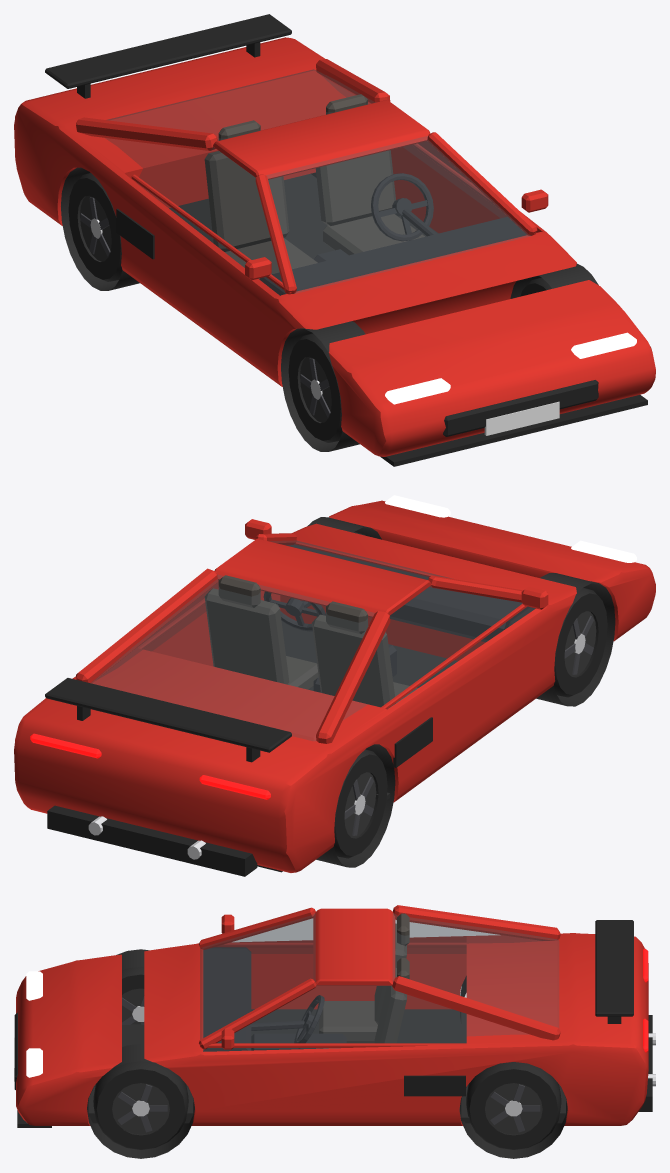
Rendered from sports_car.glb.
3 renders of one model, top to bottom at view 1: azimuth 30°, elevation 25°; view 2: azimuth 150°, elevation 25°; view 3: azimuth 270°, elevation 25°, orthographic. The views are drawn at different scales.
Parts seen in each view (by area): view 1: sports_car_body, glass, wheel_FR, wheel_RR, steering_wheel; view 2: sports_car_body, glass, wheel_FR, wheel_RR, steering_wheel; view 3: sports_car_body, glass, wheel_FL, wheel_RL, wheel_FR, steering_wheel.
Boxes of the visible parts, left/top/right/bottom form: sports_car_body: left=14, top=14, right=655, bottom=466; glass: left=105, top=69, right=530, bottom=293; wheel_FR: left=288, top=333, right=342, bottom=442; wheel_RR: left=68, top=173, right=122, bottom=281; steering_wheel: left=371, top=173, right=433, bottom=241; sports_car_body: left=14, top=495, right=655, bottom=876; glass: left=91, top=540, right=521, bottom=740; wheel_FR: left=554, top=587, right=607, bottom=697; wheel_RR: left=333, top=749, right=387, bottom=858; steering_wheel: left=263, top=591, right=325, bottom=631; sports_car_body: left=14, top=905, right=655, bottom=1158; glass: left=200, top=913, right=558, bottom=1050; wheel_FL: left=93, top=1061, right=188, bottom=1149; wheel_RL: left=466, top=1062, right=561, bottom=1149; wheel_FR: left=122, top=967, right=144, bottom=1024; steering_wheel: left=294, top=995, right=324, bottom=1048.
Bounding box in the file's own units: 2.12 × 1.29 × 4.65.
